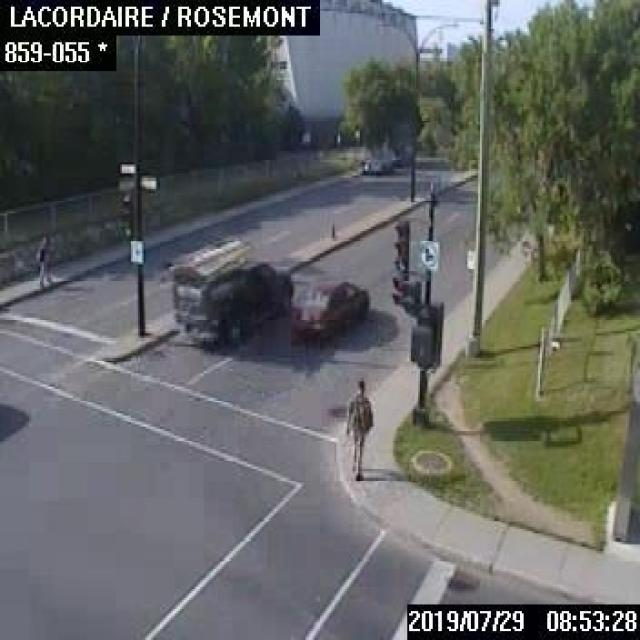pedestrian: (344, 376, 372, 477), (35, 233, 51, 289)
vehicle: (166, 232, 291, 348), (289, 279, 368, 339), (362, 152, 392, 172)
